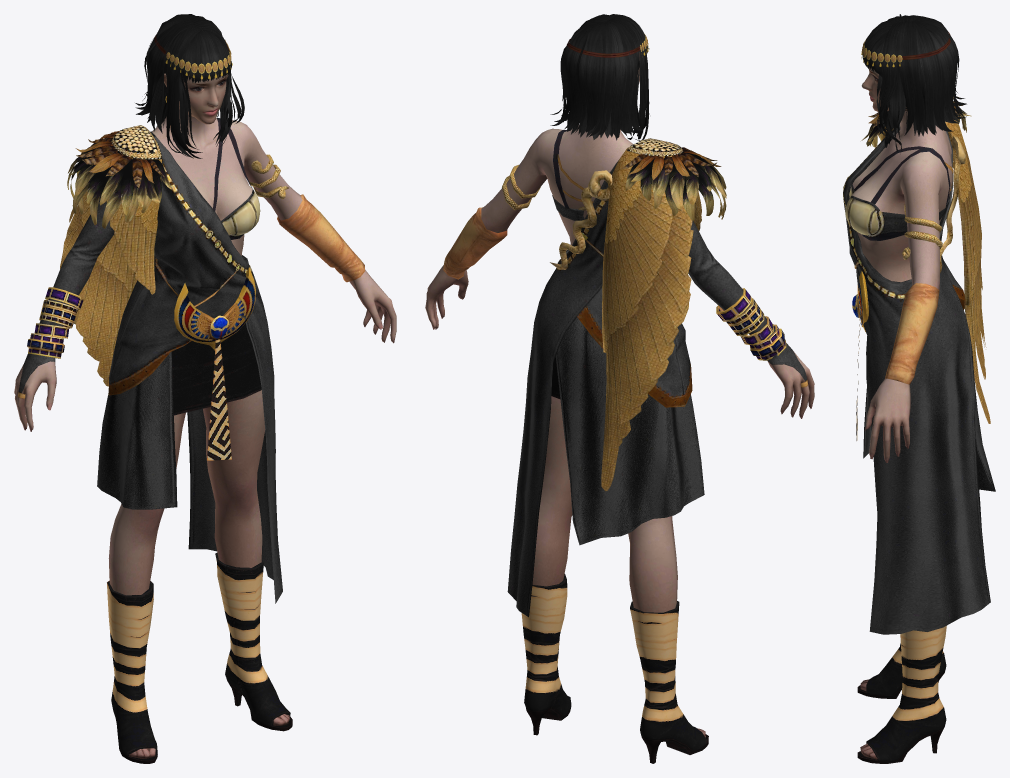
File: FemaleImperialEgypt[Blender-Render][Mouthed].fbx
3 views of the same model, side by side, from view 1: azimuth 30°, elevation 25°; view 2: azimuth 150°, elevation 25°; view 3: azimuth 270°, elevation 25° (orthographic). The views are drawn at different scales.
Visible parts, largest first — view 1: Female_Lobby_Top_Cos_Imperialegypt_0, Female_Lobby_Bottom_Cos_Imperialegypt_1, Female_Lobby_Shoe_Cos_Imperialegypt_0, Female_Lobby_Bottom_Cos_Imperialegypt_0, Female_Lobby_Top_Cos_Imperialegypt_1, Female_Lobby_Hair_Cos_Imperialegypt_0, Female_Lobby_Head_Cos_Imperialegypt_0, Female_Lobby_Hair_Cos_Imperialegypt_1; view 2: Female_Lobby_Top_Cos_Imperialegypt_0, Female_Lobby_Bottom_Cos_Imperialegypt_1, Female_Lobby_Shoe_Cos_Imperialegypt_0, Female_Lobby_Hair_Cos_Imperialegypt_0, Female_Lobby_Top_Cos_Imperialegypt_1, Female_Lobby_Bottom_Cos_Imperialegypt_0; view 3: Female_Lobby_Top_Cos_Imperialegypt_0, Female_Lobby_Top_Cos_Imperialegypt_1, Female_Lobby_Hair_Cos_Imperialegypt_0, Female_Lobby_Shoe_Cos_Imperialegypt_0, Female_Lobby_Bottom_Cos_Imperialegypt_1, Female_Lobby_Hair_Cos_Imperialegypt_1, Female_Lobby_Head_Cos_Imperialegypt_0.
Boxes of the visible parts, x1,y1,x2,y2 form: Female_Lobby_Top_Cos_Imperialegypt_0: (17, 118, 364, 603); Female_Lobby_Bottom_Cos_Imperialegypt_1: (97, 267, 261, 509); Female_Lobby_Shoe_Cos_Imperialegypt_0: (107, 552, 292, 763); Female_Lobby_Bottom_Cos_Imperialegypt_0: (108, 390, 289, 758); Female_Lobby_Top_Cos_Imperialegypt_1: (14, 109, 396, 431); Female_Lobby_Hair_Cos_Imperialegypt_0: (135, 14, 244, 158); Female_Lobby_Head_Cos_Imperialegypt_0: (164, 70, 228, 124); Female_Lobby_Hair_Cos_Imperialegypt_1: (154, 35, 232, 127); Female_Lobby_Top_Cos_Imperialegypt_0: (443, 130, 808, 617); Female_Lobby_Bottom_Cos_Imperialegypt_1: (551, 317, 704, 545); Female_Lobby_Shoe_Cos_Imperialegypt_0: (521, 574, 708, 763); Female_Lobby_Hair_Cos_Imperialegypt_0: (550, 14, 649, 140); Female_Lobby_Top_Cos_Imperialegypt_1: (425, 124, 814, 418); Female_Lobby_Bottom_Cos_Imperialegypt_0: (532, 396, 705, 737); Female_Lobby_Top_Cos_Imperialegypt_0: (843, 96, 990, 634); Female_Lobby_Top_Cos_Imperialegypt_1: (852, 111, 952, 462); Female_Lobby_Hair_Cos_Imperialegypt_0: (862, 14, 966, 151); Female_Lobby_Shoe_Cos_Imperialegypt_0: (857, 625, 946, 763); Female_Lobby_Bottom_Cos_Imperialegypt_1: (852, 271, 995, 491); Female_Lobby_Hair_Cos_Imperialegypt_1: (861, 31, 950, 67); Female_Lobby_Head_Cos_Imperialegypt_0: (861, 67, 907, 111).
Size of the model in its own units: 54.41 by 98.26 by 19.34.
